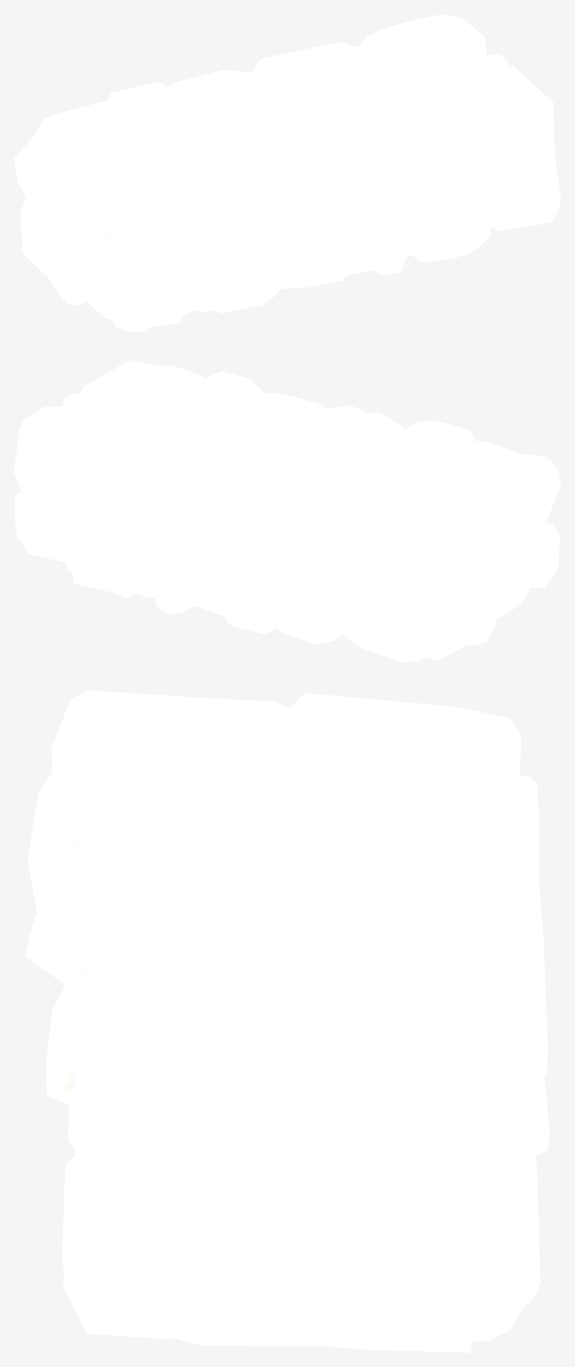
The model's file is Wall_Top_A.fbx.
3 views of the same model, one above another, from view 1: azimuth 30°, elevation 25°; view 2: azimuth 150°, elevation 25°; view 3: azimuth 270°, elevation 25° (orthographic). The views are drawn at different scales.
Parts seen in each view (by area): view 1: Dn_HL_Wall_Cnr_Top_A.001; view 2: Dn_HL_Wall_Cnr_Top_A.001; view 3: Dn_HL_Wall_Cnr_Top_A.001.
Boxes of the visible parts, x1=… form: Dn_HL_Wall_Cnr_Top_A.001: x1=14, y1=14, x2=560, y2=331; Dn_HL_Wall_Cnr_Top_A.001: x1=14, y1=360, x2=560, y2=661; Dn_HL_Wall_Cnr_Top_A.001: x1=25, y1=690, x2=549, y2=1352.
Size of the model in its own units: 8576 by 3038 by 4454.
